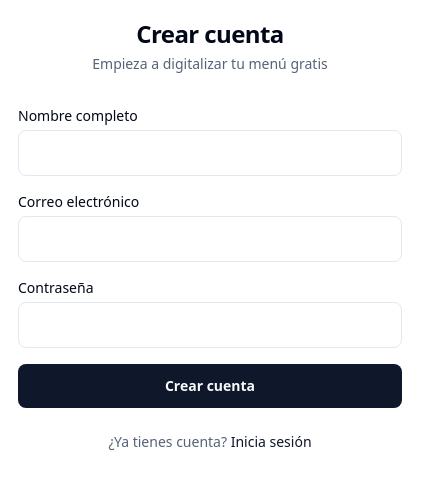
RegisterPage › shows error when password is too short
This screenshot has width=421, height=478.
Type "Test User" into the field labelled "Nombre completo" at (210, 153), box [18,130,402,176]
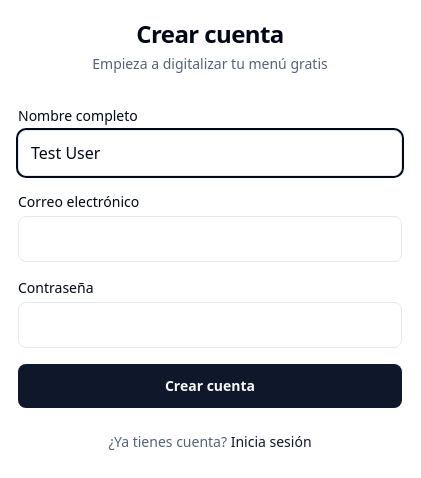
Type "user@tablio.co" into the field labelled "Correo electrónico" at (210, 239), box [18,216,402,262]
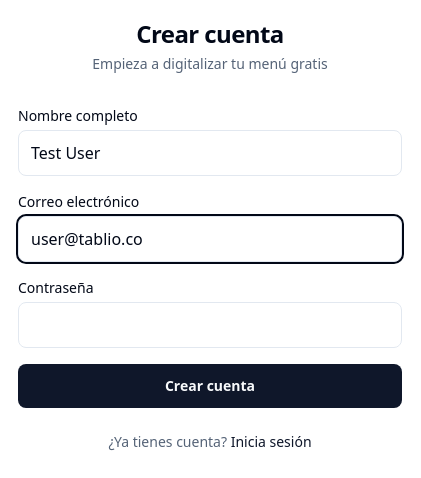
Type "short" into the password field labelled "Contraseña" at (210, 325), box [18,302,402,348]
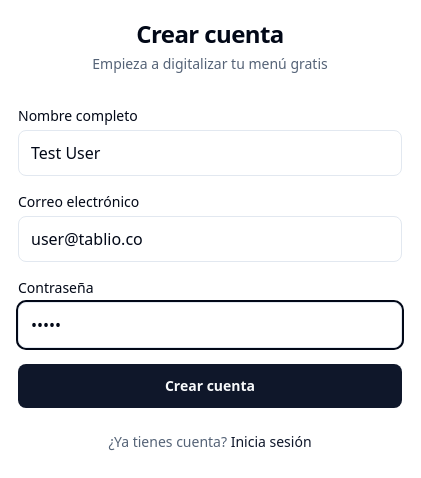
Click the button "Crear cuenta" at (210, 386), box [18,364,402,408]
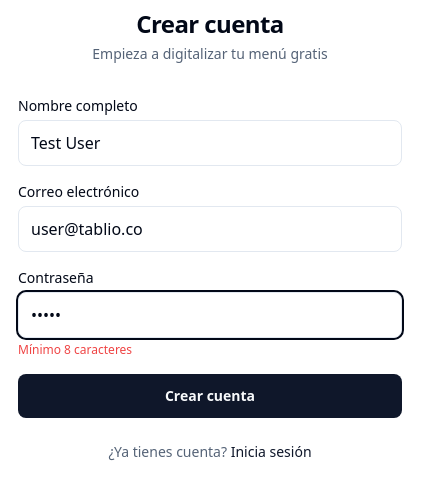
Check: the message "Mínimo 8 caracteres" is shown, box [18,341,132,358]
